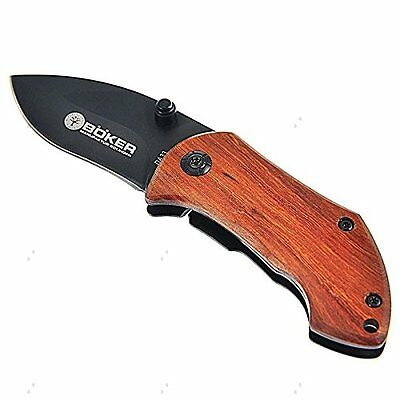knief: (6, 65, 393, 351)
